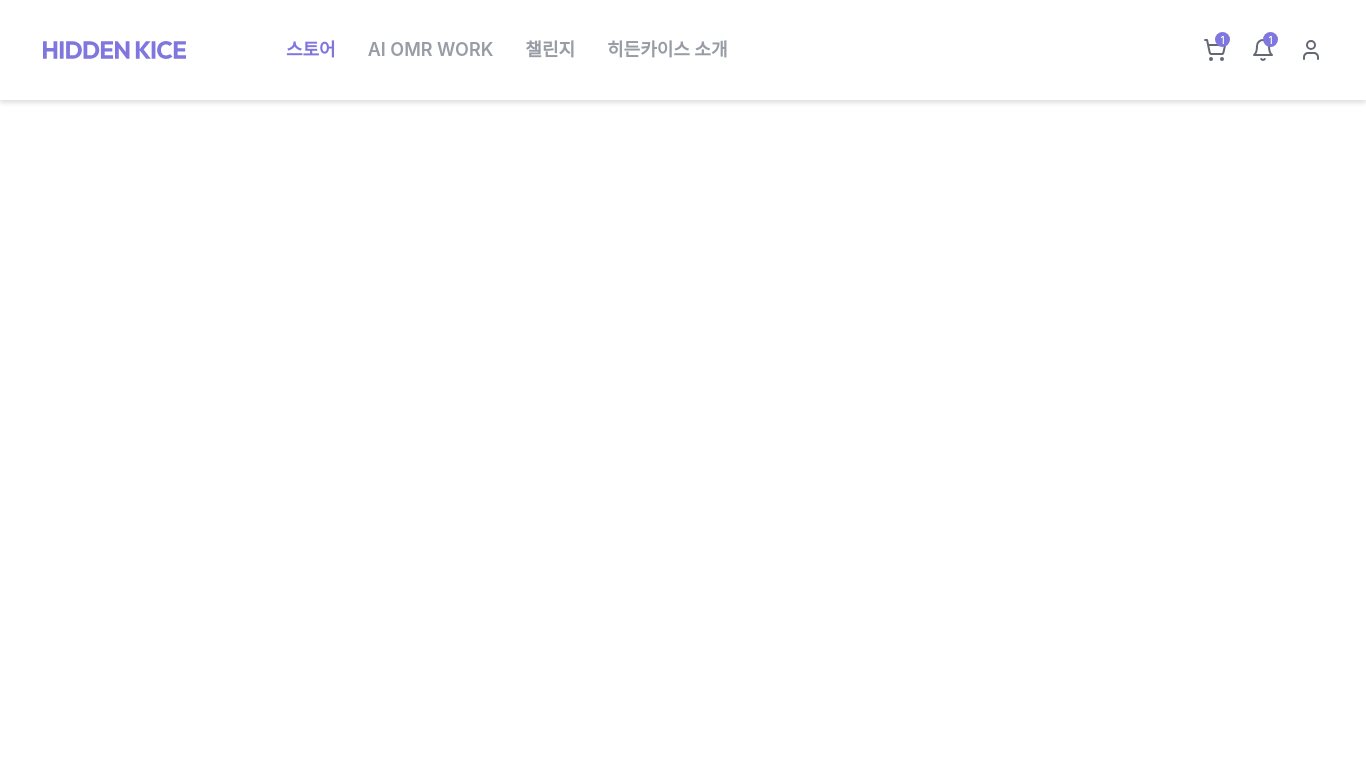
Scenario: GNB › 장바구니·알림·마이페이지 아이콘은 배지 수를 포함한 이름을 갖고, 누르면 준비 중 안내를 띄운다
What coordinates should you click on to do the following:
click the button named "장바구니 (1개)"
I would click on:
 (1215, 50)
Its box is 1203,38 -> 1227,62.
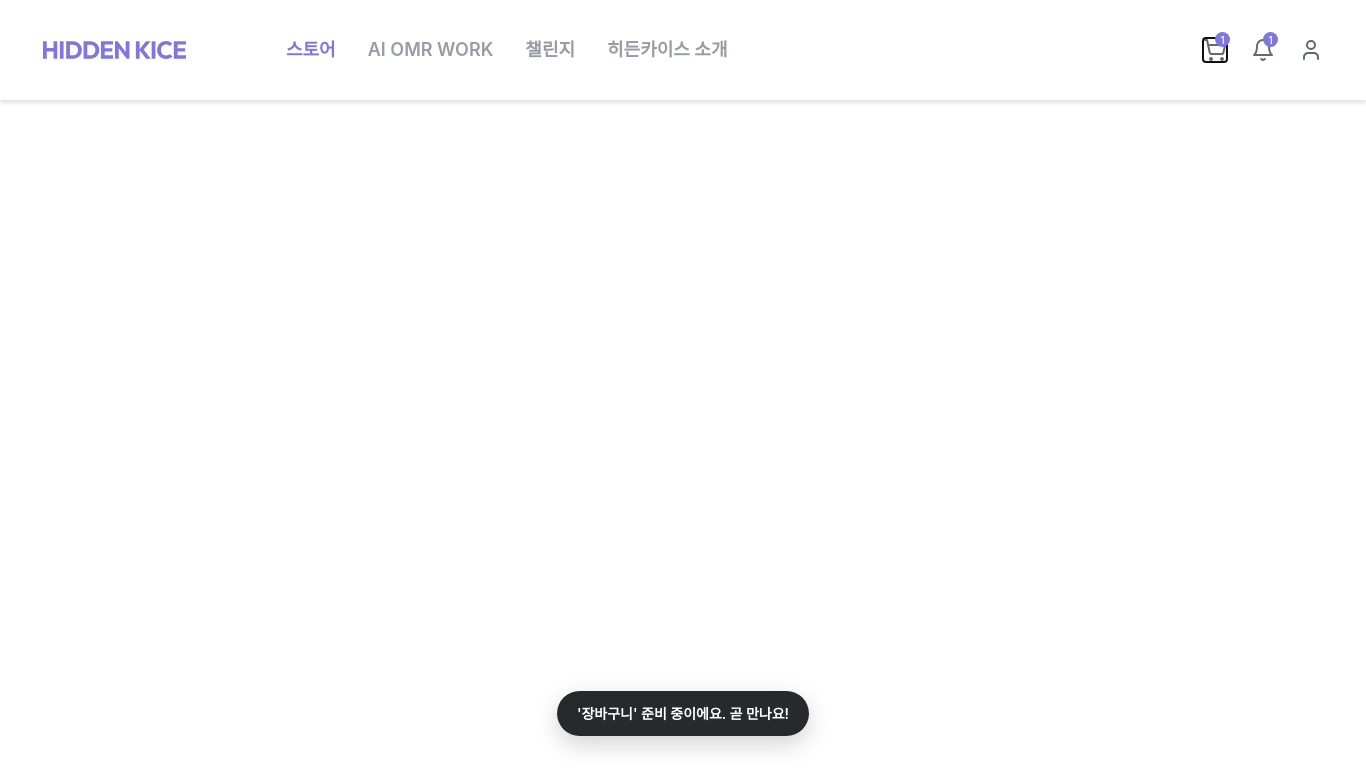
expect the button named "알림 (1개)" is shown: met, box 1251,38 -> 1275,62
expect the message shows "'장바구니' 준비 중이에요.": met, box 577,705 -> 789,722
